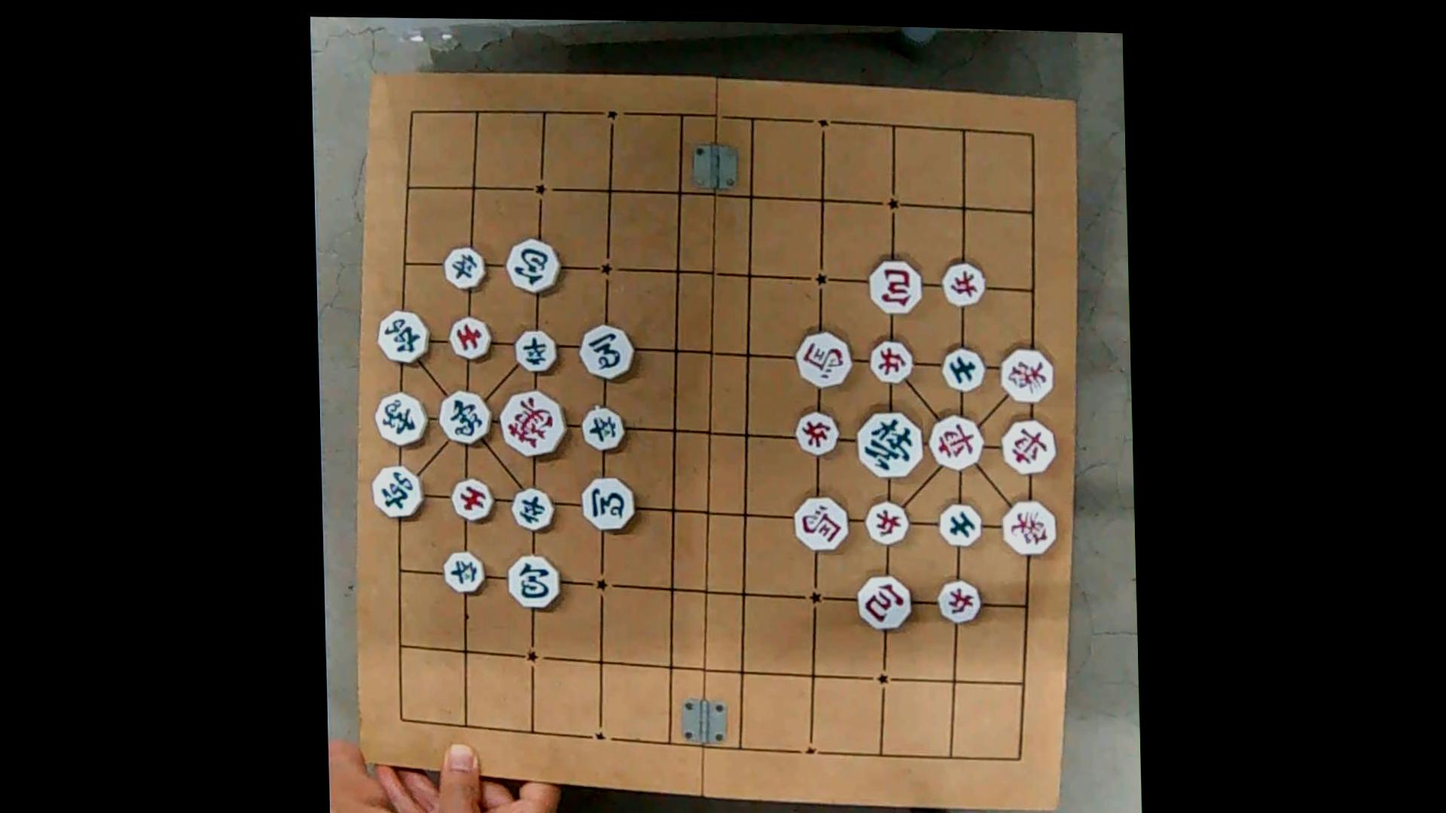cha_green: (380, 306, 429, 365), (376, 463, 424, 522)
cha_red: (1002, 418, 1053, 480), (930, 412, 981, 473)
jol_green: (582, 403, 623, 453), (514, 483, 554, 534), (445, 547, 484, 595), (446, 241, 484, 289), (514, 329, 553, 374)
jol_red: (871, 336, 913, 386), (796, 408, 837, 458), (938, 574, 978, 625), (866, 498, 907, 547), (943, 265, 981, 315)
ma_green: (580, 320, 632, 381), (585, 475, 636, 534)
ma_red: (795, 493, 846, 555), (796, 329, 852, 385)
po_green: (509, 233, 560, 294), (510, 554, 560, 613)
po_red: (857, 574, 908, 634), (871, 259, 920, 314)
sa_green: (940, 498, 980, 547), (944, 344, 983, 394)
sa_red: (447, 317, 491, 361), (453, 476, 492, 524)
sang_green: (376, 391, 426, 449), (441, 388, 490, 446)
sang_red: (1005, 496, 1055, 560), (1003, 346, 1054, 407)
wang_green: (862, 407, 923, 480)
wang_red: (502, 391, 560, 459)
